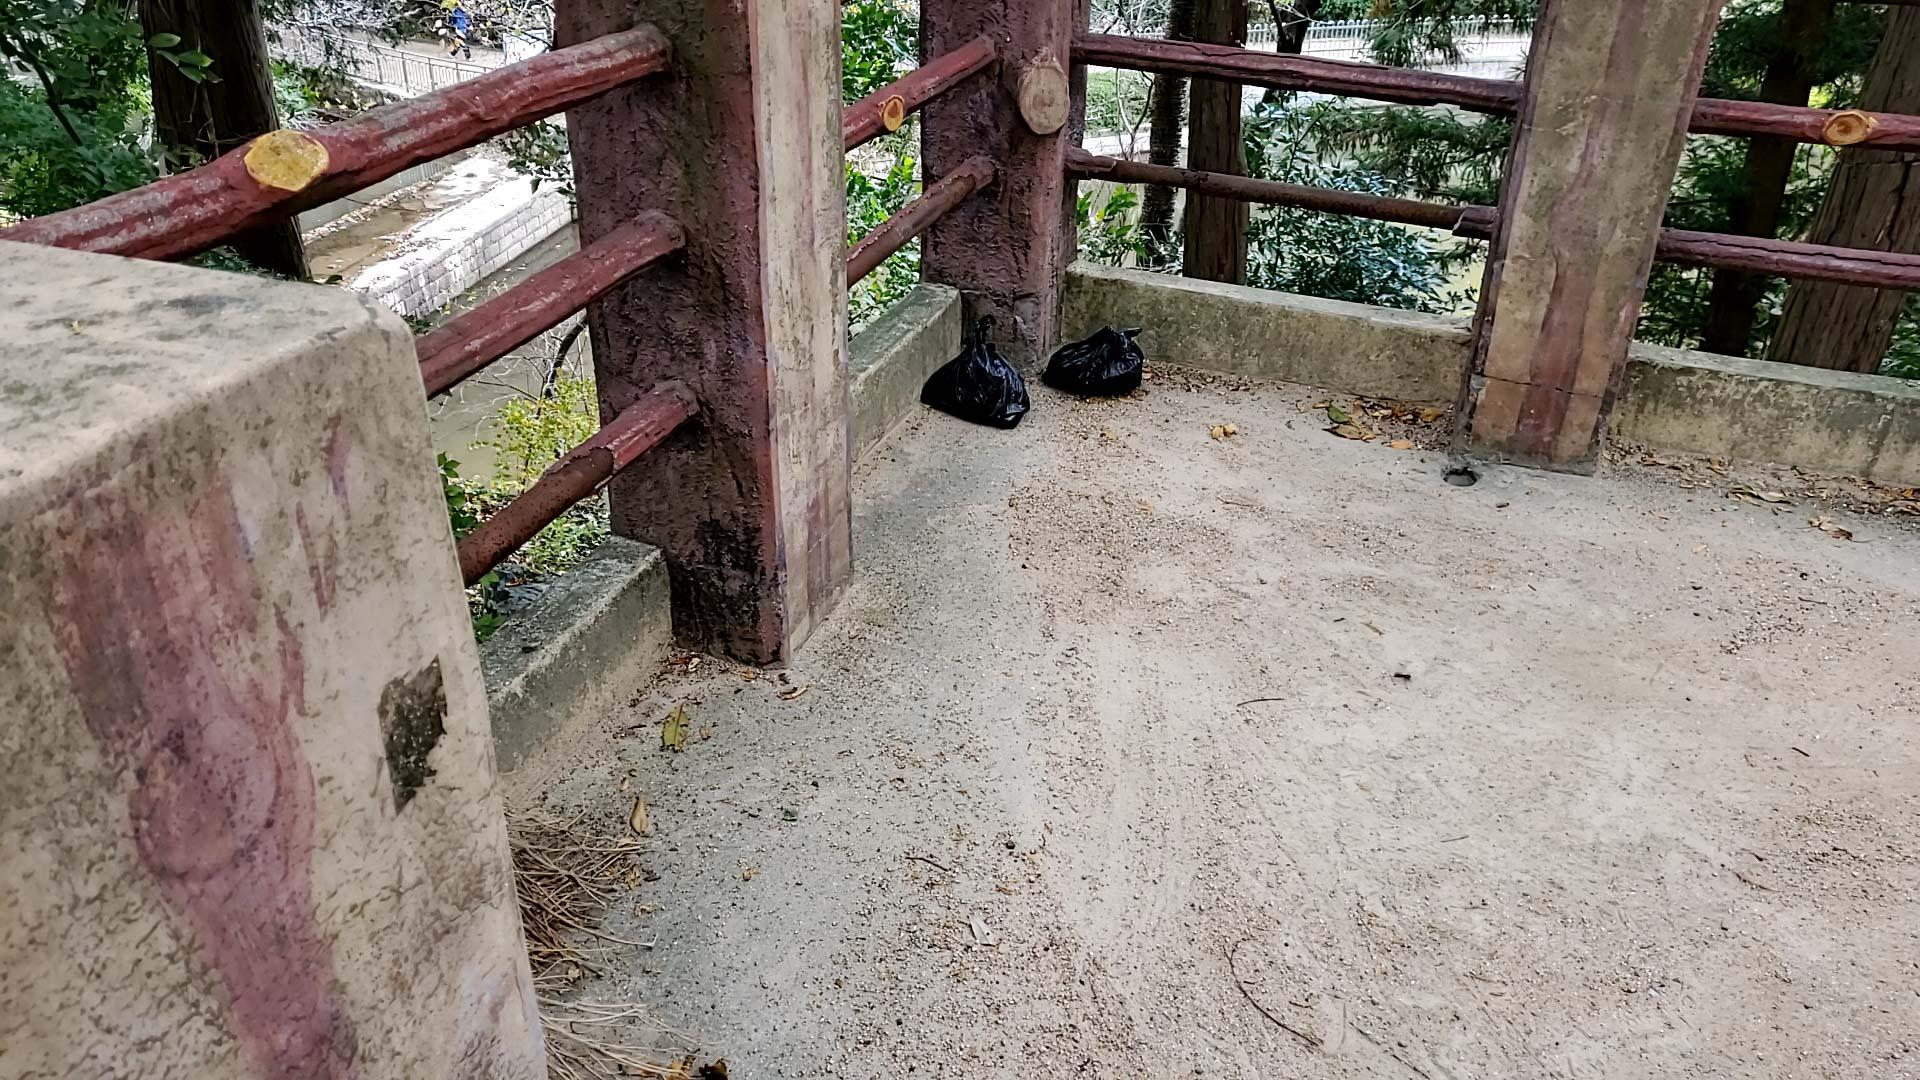black_bag: (916, 310, 1036, 433), (1039, 313, 1149, 401)
